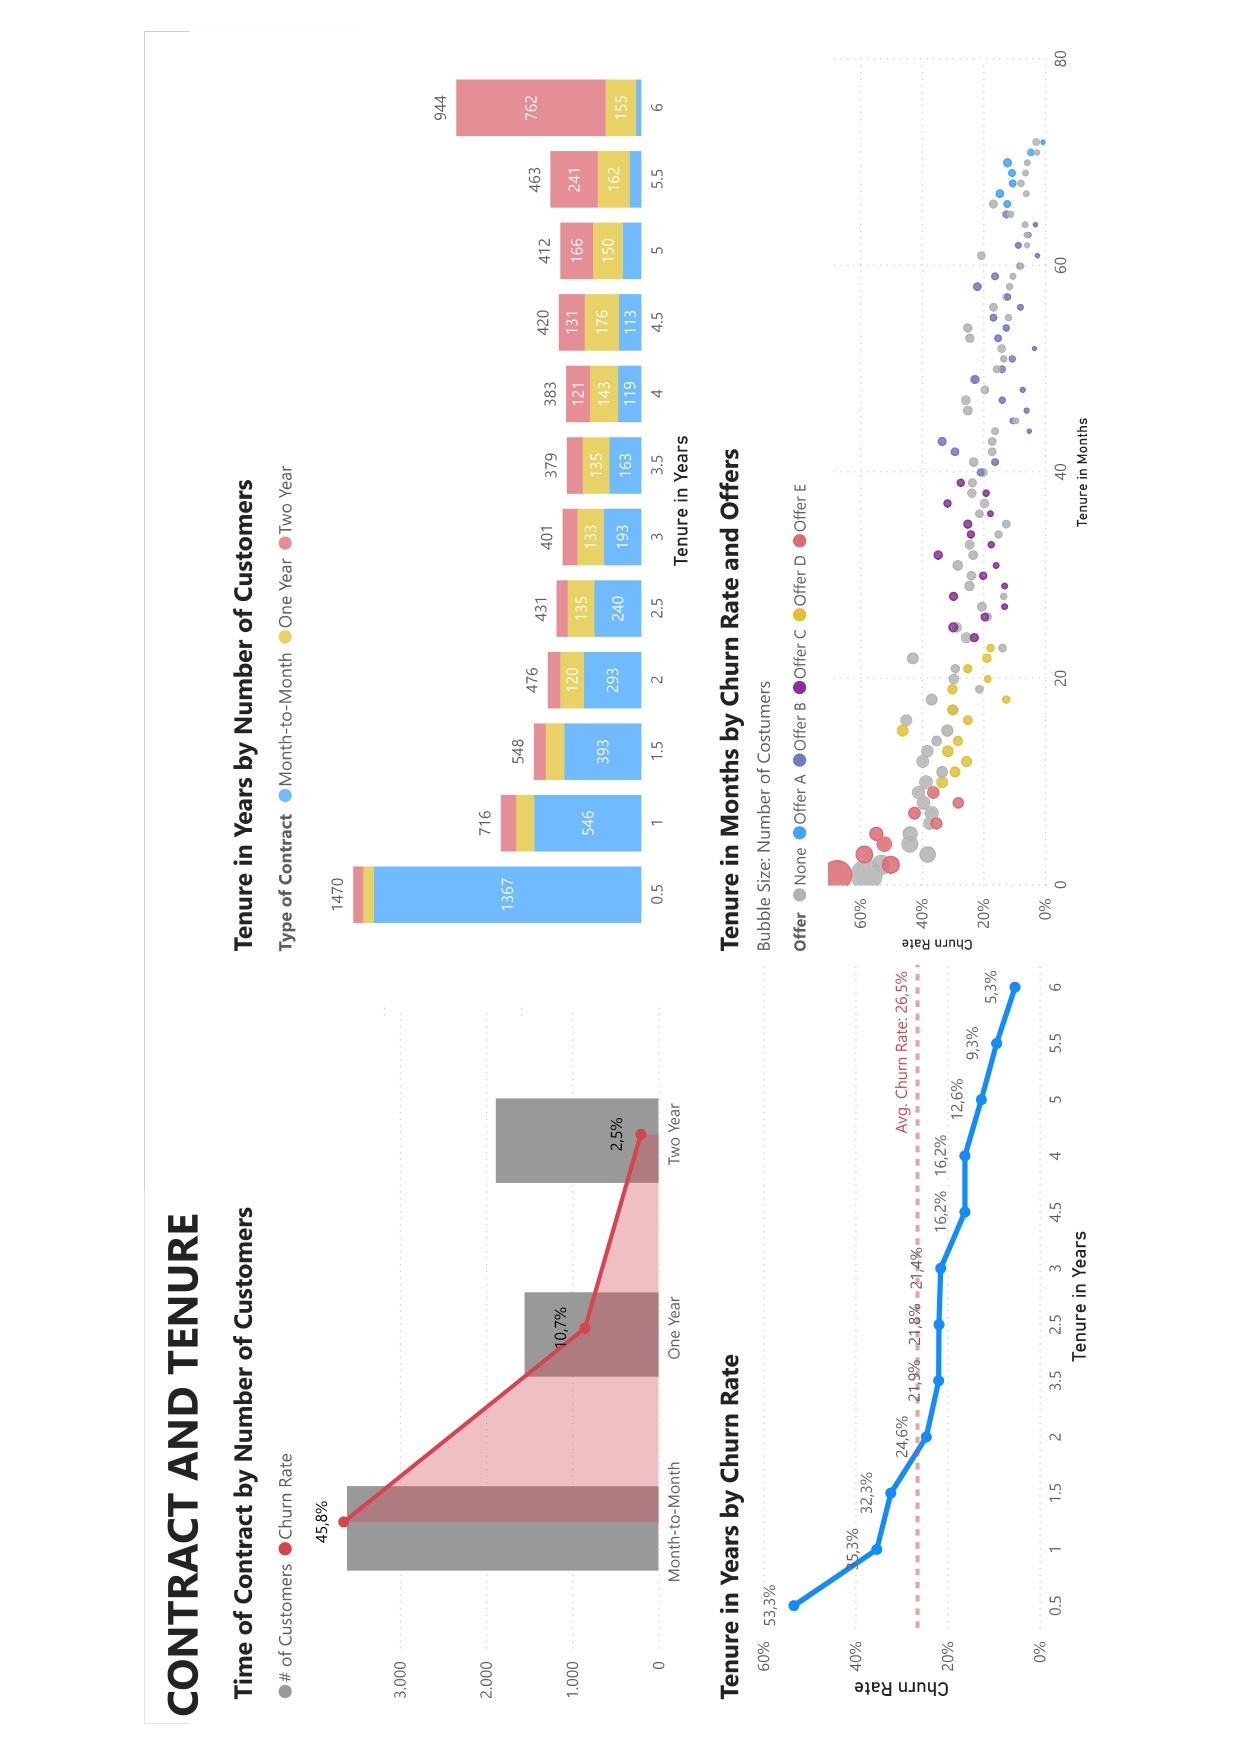

What the dashboard file says about the page in this screenshot:
{"tool":"powerbi","page":{"name":"Contract and Tenure","canvas":[1280,720],"ordinal":2},"visuals":[{"type":"textbox","box":[0,0,403.6,61.3],"z":0},{"type":"lineStackedColumnComboChart","title":"Time of Contract by Number of Customers","fields":{"Y":["Medidas.# of Customers"],"Y2":["Medidas.Churn Rate"],"Category":["Telco_Churn_Services.Contract"]},"box":[13.2,61,565.8,357.6],"z":1000},{"type":"columnChart","title":"Tenure in Years by Number of Customers","fields":{"Category":["Telco_Churn_Services.TenureCategory"],"Y":["Medidas.# of Customers"],"Series":["Telco_Churn_Services.Contract"]},"box":[579,61,691.8,357.6],"z":2000},{"type":"lineChart","title":"Tenure in Years by Churn Rate","fields":{"Y":["Medidas.Churn Rate"],"Category":["Telco_Churn_Services.TenureCategory"]},"box":[13,429,566,291],"z":2001},{"type":"scatterChart","title":"Tenure in Months by Churn Rate and Offers","fields":{"Y":["Medidas.Churn Rate"],"X":["Telco_Churn_Services.Tenure in Months"],"Size":["Medidas.# Churn Customers"],"Series":["Telco_Churn_Services.Offer"]},"box":[579,429,692,291],"z":2002}]}

Visuals, with their boxes on the page's 1280x720 design canvas (x1, y1, x2, y2). These are canvas units, not pixel positions in the 1241x1755 screenshot, which may show the page scaled, cropped or inside an application window:
textbox: (left=0, top=0, right=404, bottom=61)
"Time of Contract by Number of Customers" lineStackedColumnComboChart: (left=13, top=61, right=579, bottom=419)
"Tenure in Years by Number of Customers" columnChart: (left=579, top=61, right=1271, bottom=419)
"Tenure in Years by Churn Rate" lineChart: (left=13, top=429, right=579, bottom=720)
"Tenure in Months by Churn Rate and Offers" scatterChart: (left=579, top=429, right=1271, bottom=720)
